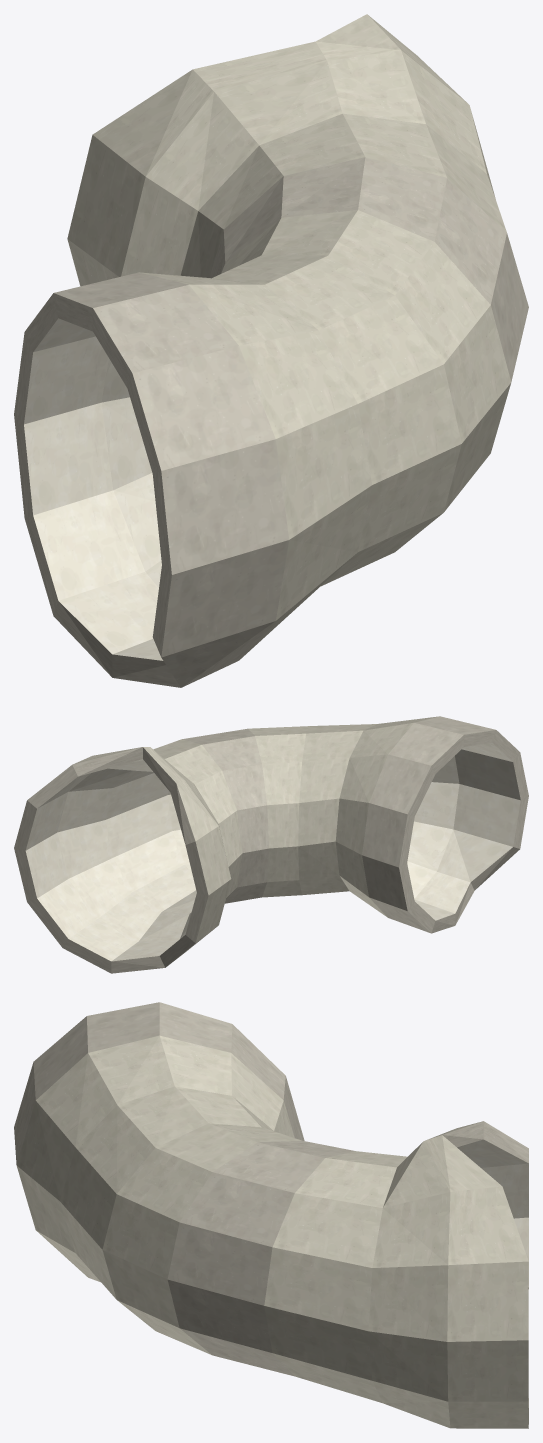
The model's file is debris_pvc_cracked_elbow.glb.
3 views of the same model, one above another, from view 1: azimuth 30°, elevation 25°; view 2: azimuth 150°, elevation 25°; view 3: azimuth 270°, elevation 25° (orthographic). The views are drawn at different scales.
Parts seen in each view (by area): view 1: Cracked PVC Elbow; view 2: Cracked PVC Elbow; view 3: Cracked PVC Elbow.
Part boxes in pixels (x1,y1,x2,y2): Cracked PVC Elbow: (14, 14, 528, 687); Cracked PVC Elbow: (14, 716, 528, 973); Cracked PVC Elbow: (14, 1002, 528, 1428).
Bounding box in the file's own units: 0.1381 × 0.082 × 0.1367.
Materials: 1 (1 with a texture image).
